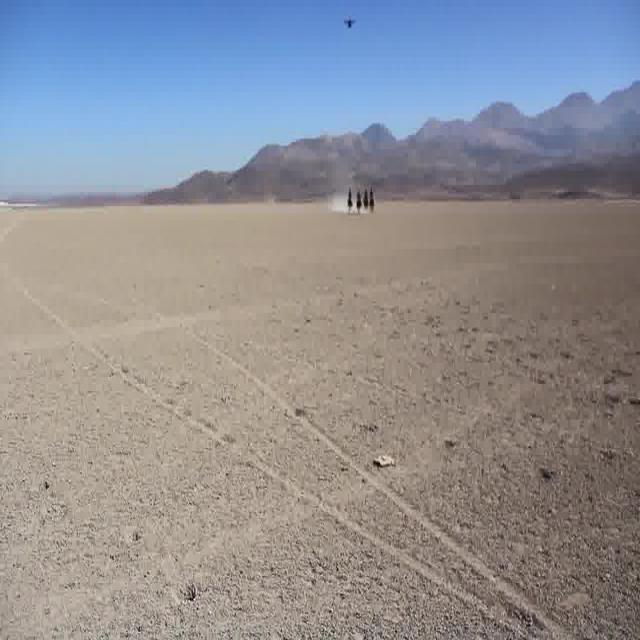drone: (342, 14, 358, 36)
